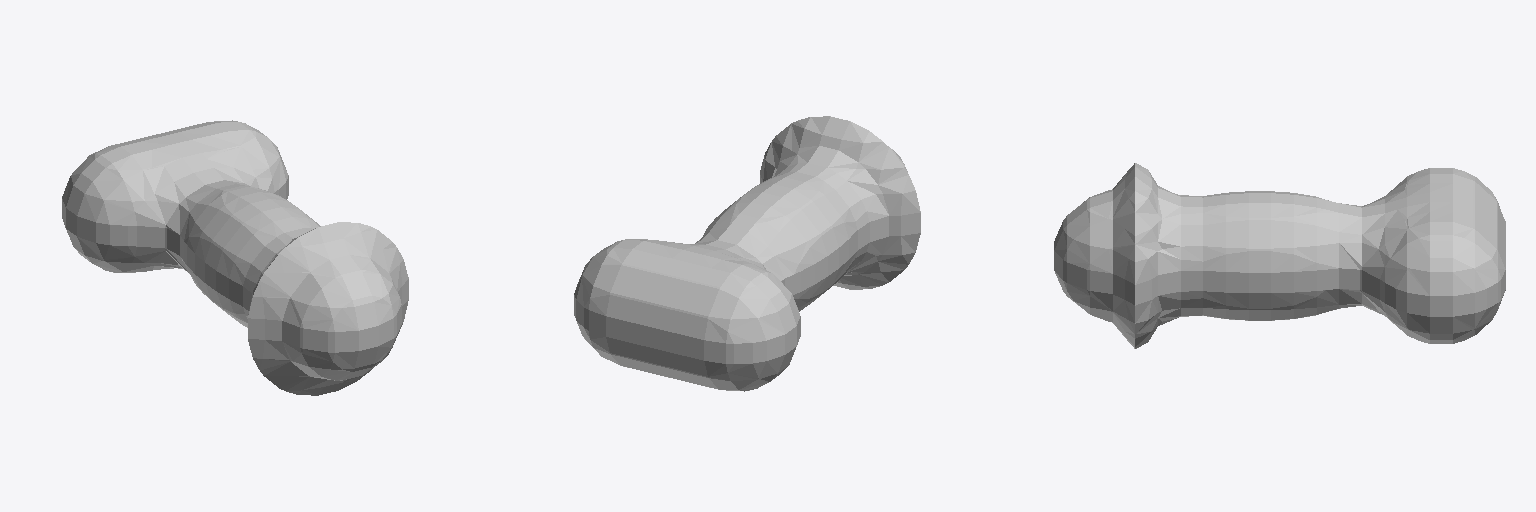
Rendered from dick.obj.
3 renders of one model, left to right at view 1: azimuth 30°, elevation 25°; view 2: azimuth 150°, elevation 25°; view 3: azimuth 270°, elevation 25°, orthographic.
Parts seen in each view (by area): view 1: Mball; view 2: Mball; view 3: Mball.
Boxes of the visible parts, box(x1,y1,x2,y2) form: Mball: box(62, 120, 408, 395); Mball: box(574, 116, 920, 391); Mball: box(1054, 163, 1505, 348).
Size of the model in its own units: 4.23 by 3.28 by 7.96.